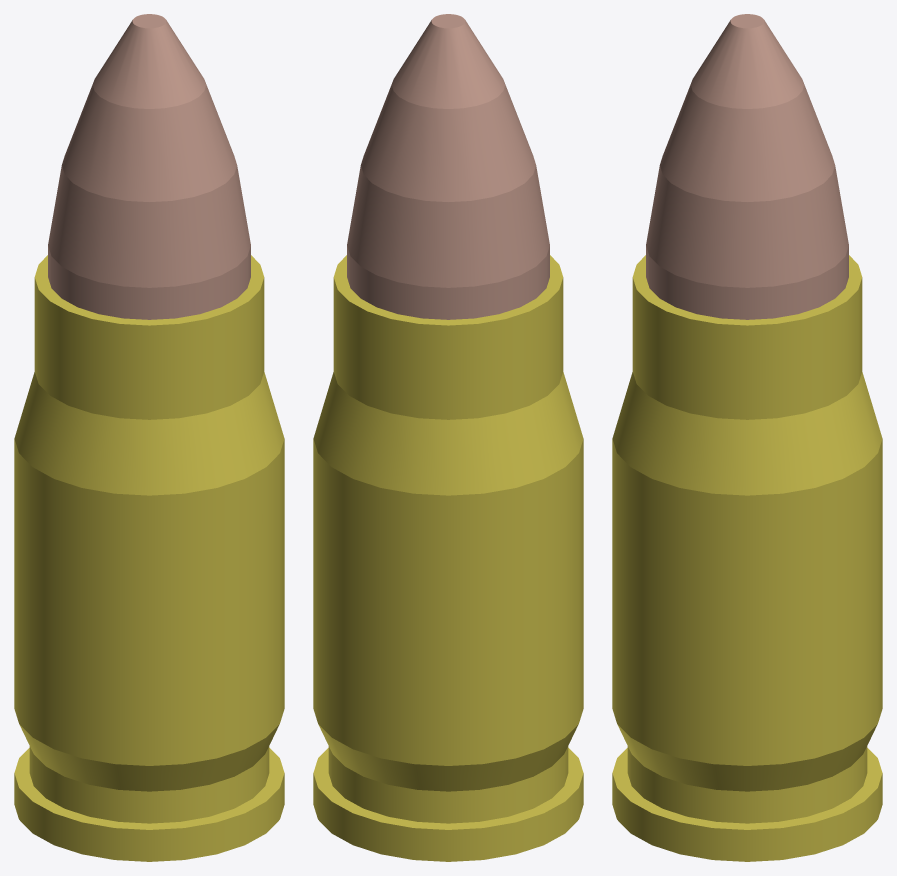
Rendered from Bullet.fbx.
3 renders of one model, left to right at view 1: azimuth 30°, elevation 25°; view 2: azimuth 150°, elevation 25°; view 3: azimuth 270°, elevation 25°, orthographic.
Visible parts, largest first — view 1: polySurface1; view 2: polySurface1; view 3: polySurface1.
Boxes of the visible parts, box(x1,y1,x2,y2) form: polySurface1: box(14, 14, 284, 861); polySurface1: box(313, 14, 583, 861); polySurface1: box(612, 14, 882, 861).
Bounding box in the file's own units: 0.00459 × 0.0147 × 0.00459.
